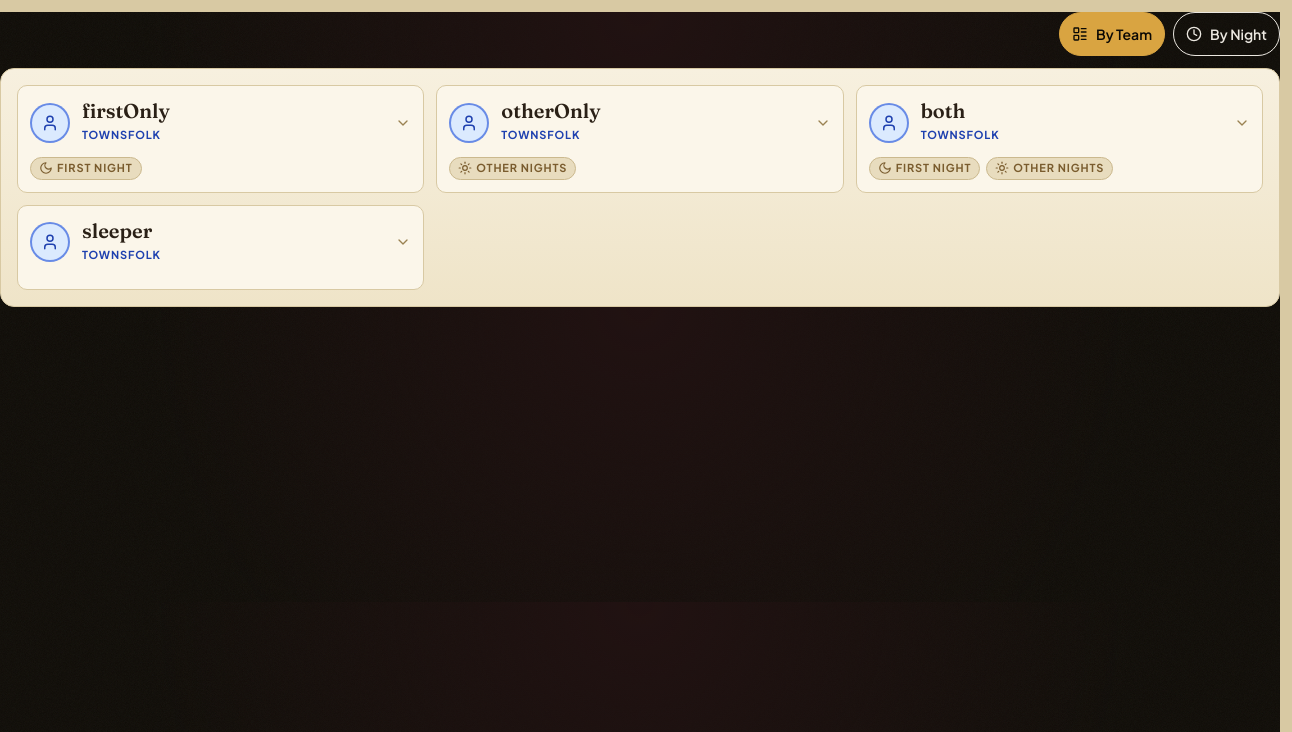
it: ScriptView By Night sub-toggle › shows the First/Other sub-toggle once By Night is selected
Click the button with test id "button-sort-night". click: {"x": 1227, "y": 34}
box: [1173,12,1280,56]
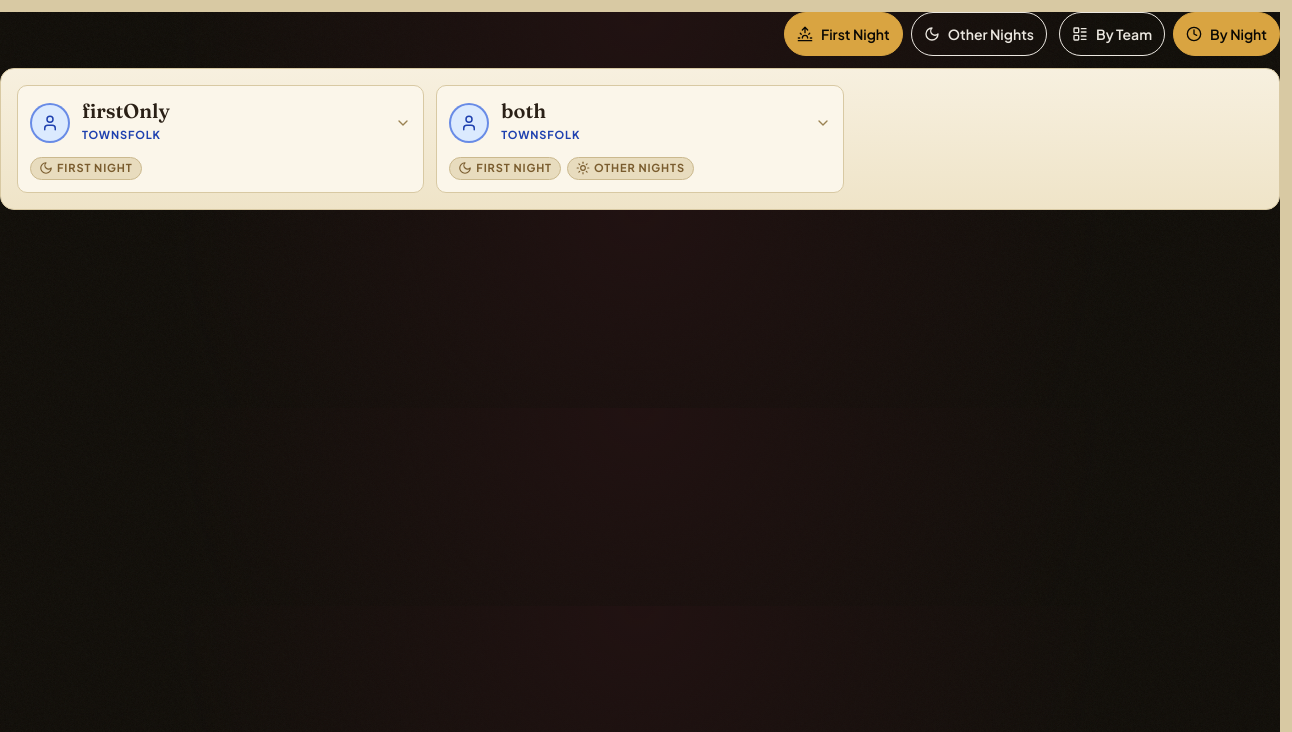
Expected: the button with test id "button-night-other" is shown, [911,12,1047,56]
Expected: the button with test id "button-night-first" is shown, [784,12,903,56]
